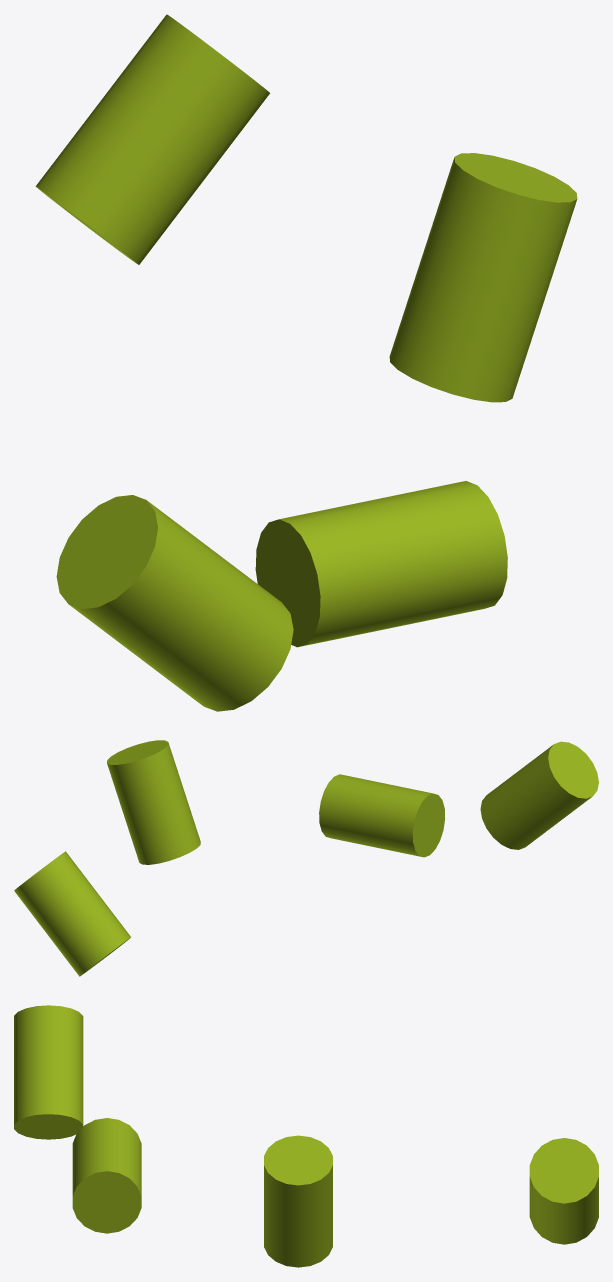
3 renders of one model, top to bottom at view 1: azimuth 30°, elevation 25°; view 2: azimuth 150°, elevation 25°; view 3: azimuth 270°, elevation 25°, orthographic. The views are drawn at different scales.
Parts seen in each view (by area): view 1: Cylinder003, Cylinder001, Cylinder004, Cylinder002; view 2: Cylinder004, Cylinder003, Cylinder001, Cylinder002; view 3: Cylinder001, Cylinder003, Cylinder004, Cylinder002.
Part boxes in pixels (bbox=[...]): Cylinder003: bbox=[389, 153, 577, 402]; Cylinder001: bbox=[56, 495, 293, 711]; Cylinder004: bbox=[255, 481, 507, 647]; Cylinder002: bbox=[35, 14, 269, 264]; Cylinder004: bbox=[319, 774, 445, 857]; Cylinder003: bbox=[107, 740, 200, 864]; Cylinder001: bbox=[480, 741, 598, 849]; Cylinder002: bbox=[14, 851, 131, 976]; Cylinder001: bbox=[14, 1005, 83, 1139]; Cylinder003: bbox=[264, 1135, 332, 1267]; Cylinder004: bbox=[72, 1118, 141, 1233]; Cylinder002: bbox=[529, 1138, 598, 1244].
Size of the model in its own units: 191 by 246 by 65.8.
